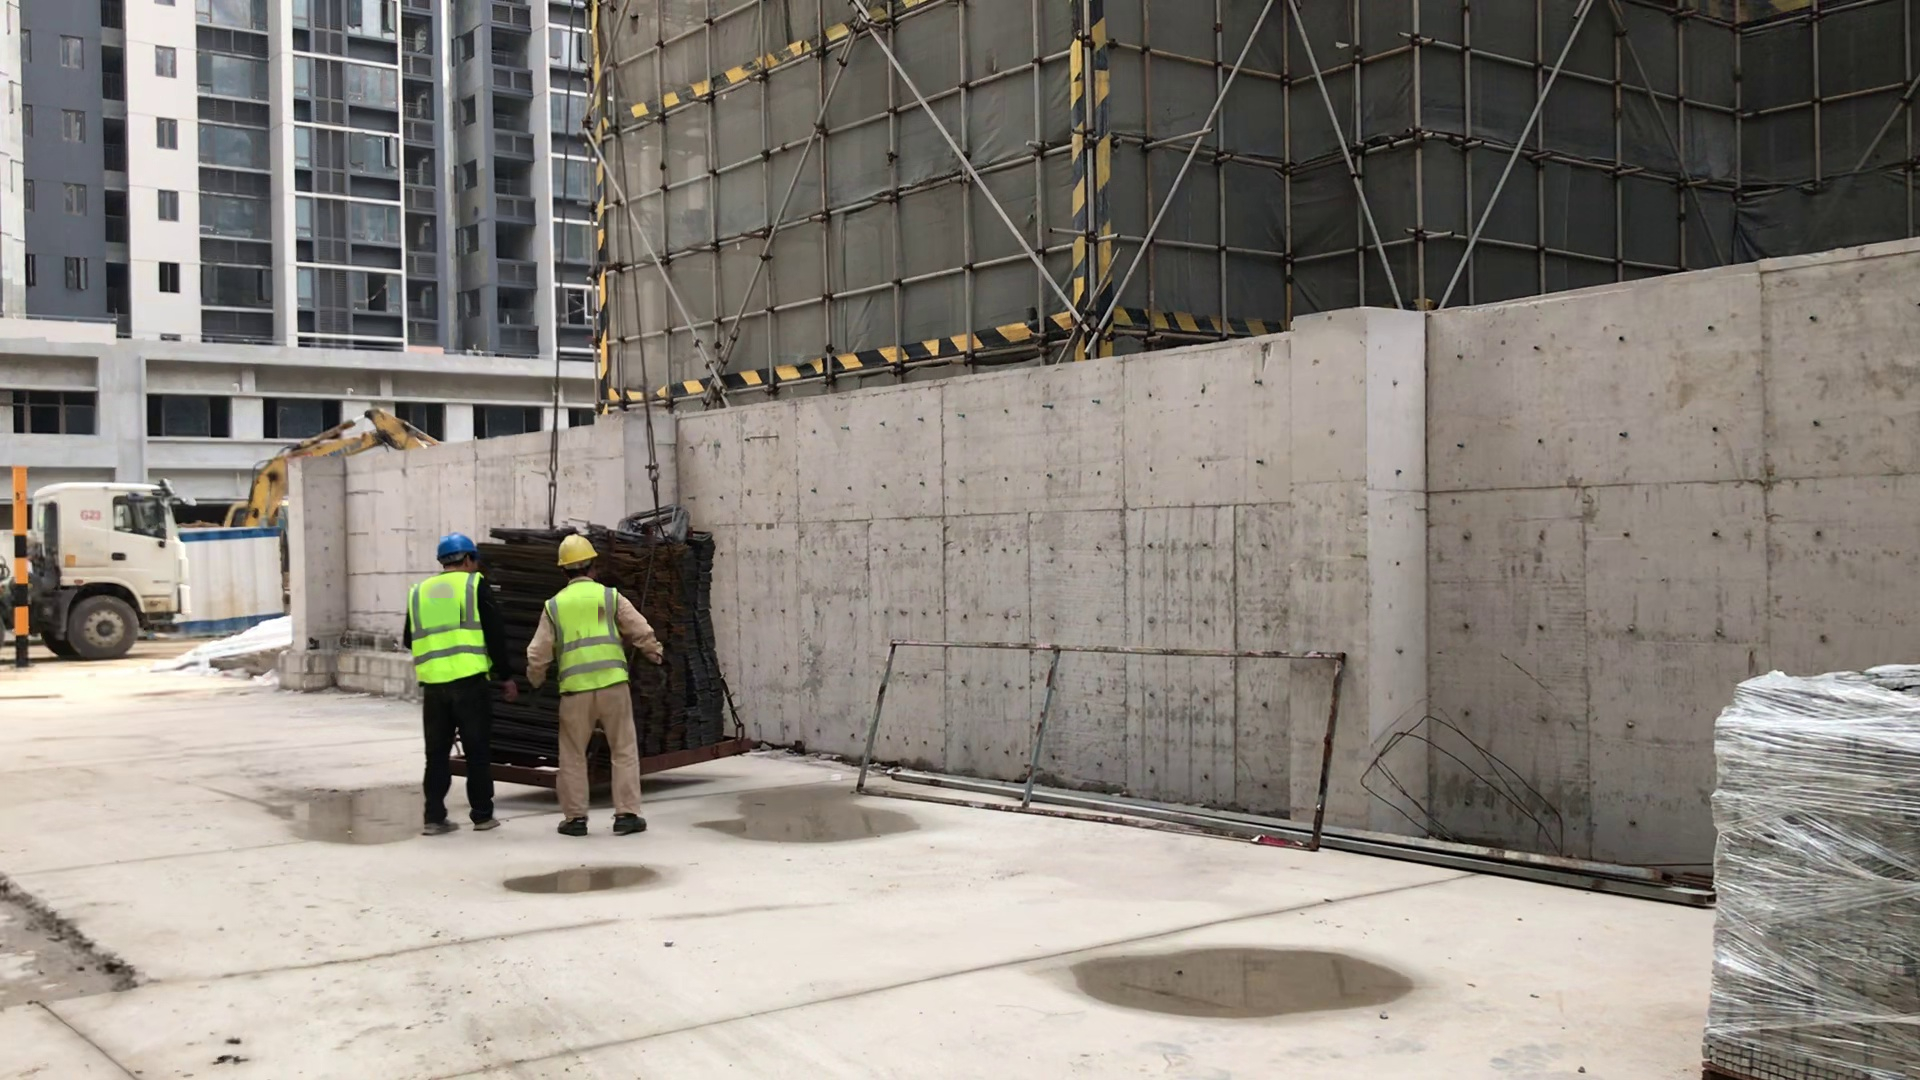helmet: (548, 526, 607, 575), (434, 530, 484, 569)
person: (530, 521, 663, 835), (414, 524, 501, 836)
vest: (535, 586, 632, 685), (415, 578, 486, 687)
